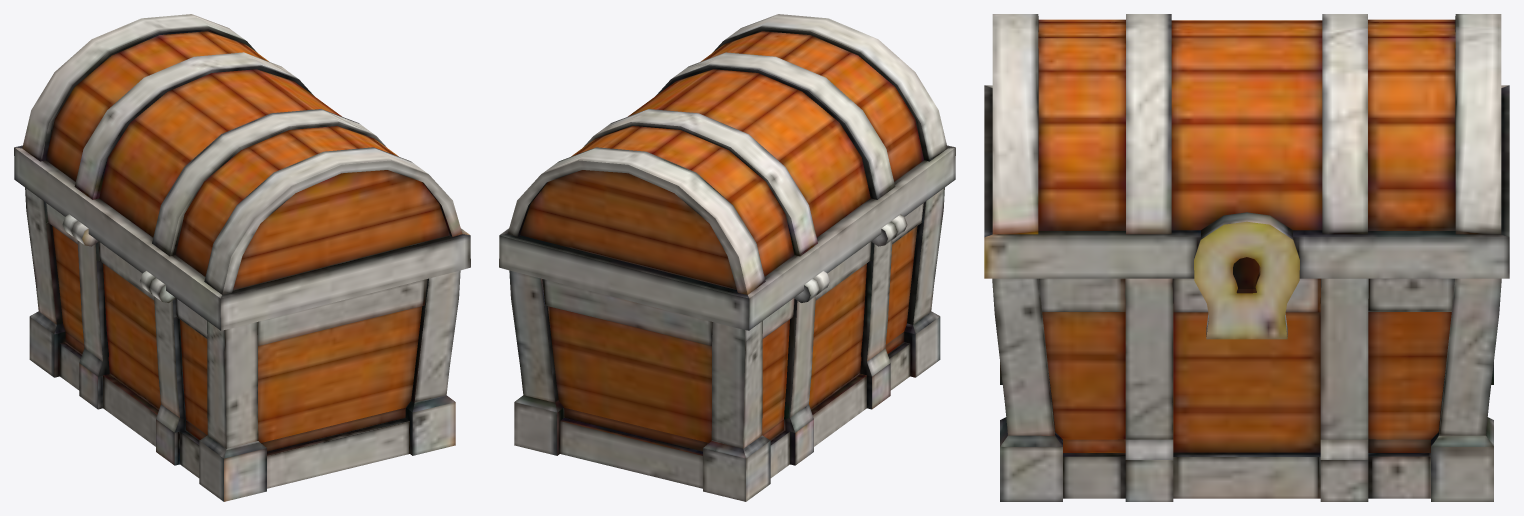
The model's file is chest.glb.
The picture shows the model from 3 angles, left to right: view 1: azimuth 30°, elevation 25°; view 2: azimuth 150°, elevation 25°; view 3: azimuth 270°, elevation 25°; orthographic projection. The views are drawn at different scales.
Parts seen in each view (by area): view 1: Chest_Top, Chest_Bottom; view 2: Chest_Top, Chest_Bottom; view 3: Chest_Top, Chest_Bottom.
Boxes of the visible parts, bbox=[...] form: Chest_Top: bbox=[14, 14, 470, 330]; Chest_Bottom: bbox=[25, 187, 460, 501]; Chest_Top: bbox=[499, 14, 955, 330]; Chest_Bottom: bbox=[509, 187, 944, 501]; Chest_Top: bbox=[984, 14, 1509, 339]; Chest_Bottom: bbox=[992, 278, 1501, 501].
Bounding box in the file's own units: 1.81 × 2.06 × 2.48.
Materials: 1 (1 with a texture image).
